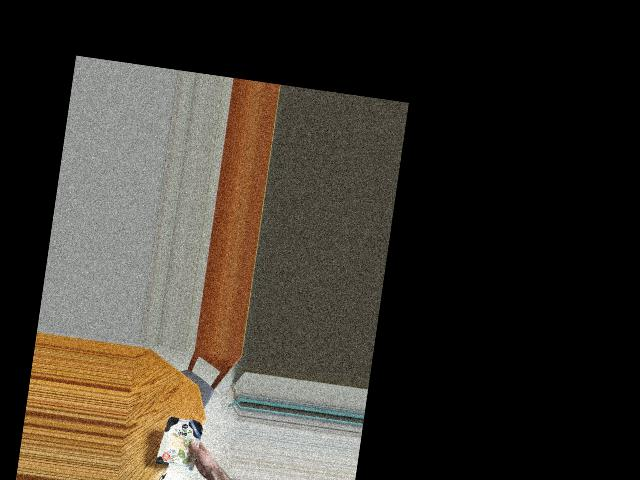cheese: (160, 409, 207, 480)
